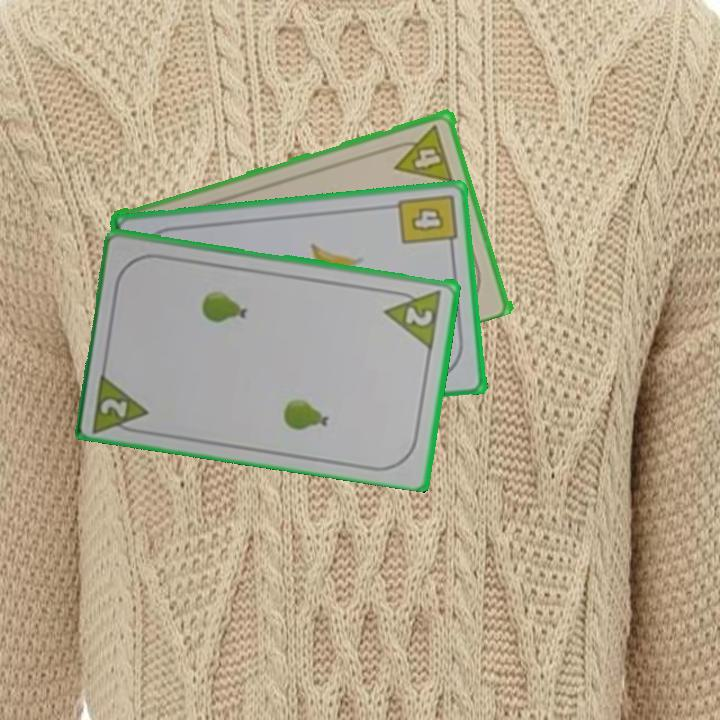2p: (382, 285, 445, 350), (97, 394, 131, 420)
4b: (394, 190, 459, 254)
4p: (387, 120, 456, 185)
